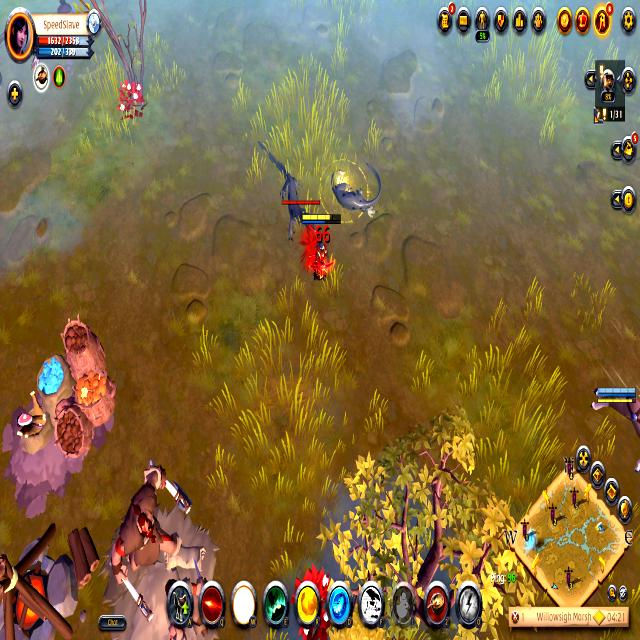hide: (114, 74, 154, 131)
ore: (106, 455, 200, 608), (254, 130, 323, 244)
red: (298, 212, 342, 288), (591, 382, 640, 418)
